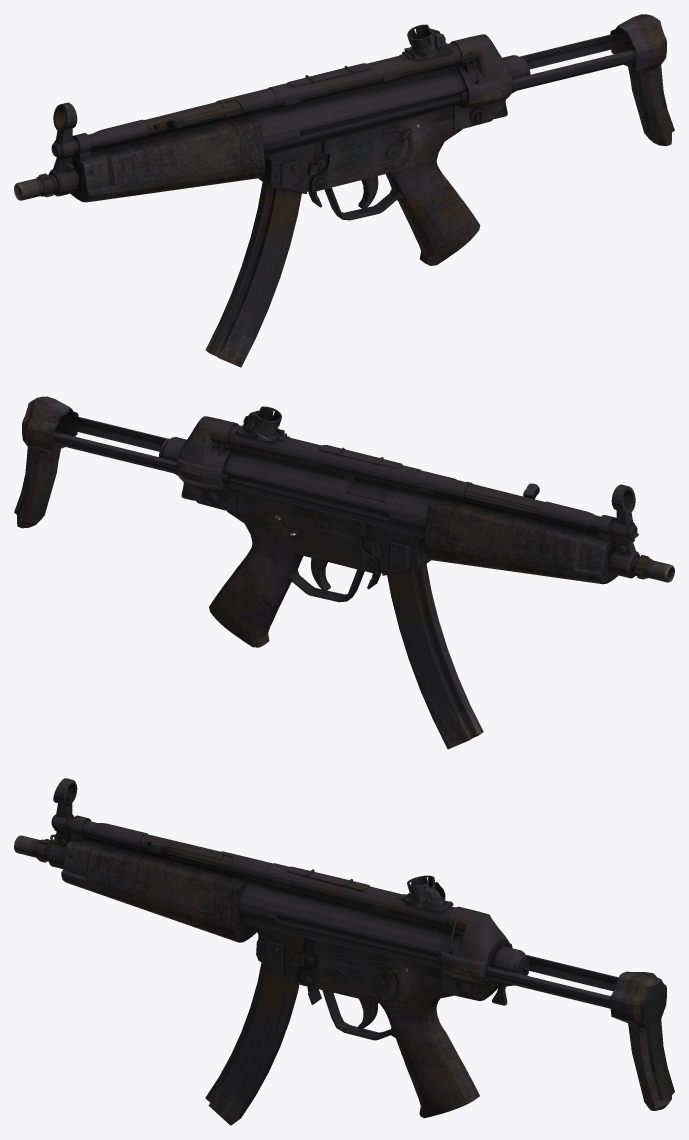
The picture shows the model from 3 angles, top to bottom: view 1: azimuth 30°, elevation 25°; view 2: azimuth 150°, elevation 25°; view 3: azimuth 330°, elevation 25°; orthographic projection.
Visible parts, largest first — view 1: MP5; view 2: MP5; view 3: MP5.
Part boxes in pixels (x1,y1,x2,y2): MP5: (14, 14, 674, 367); MP5: (14, 396, 674, 749); MP5: (14, 778, 674, 1125).
Bounding box in the file's own units: 6.07 × 2.67 × 0.5279.
